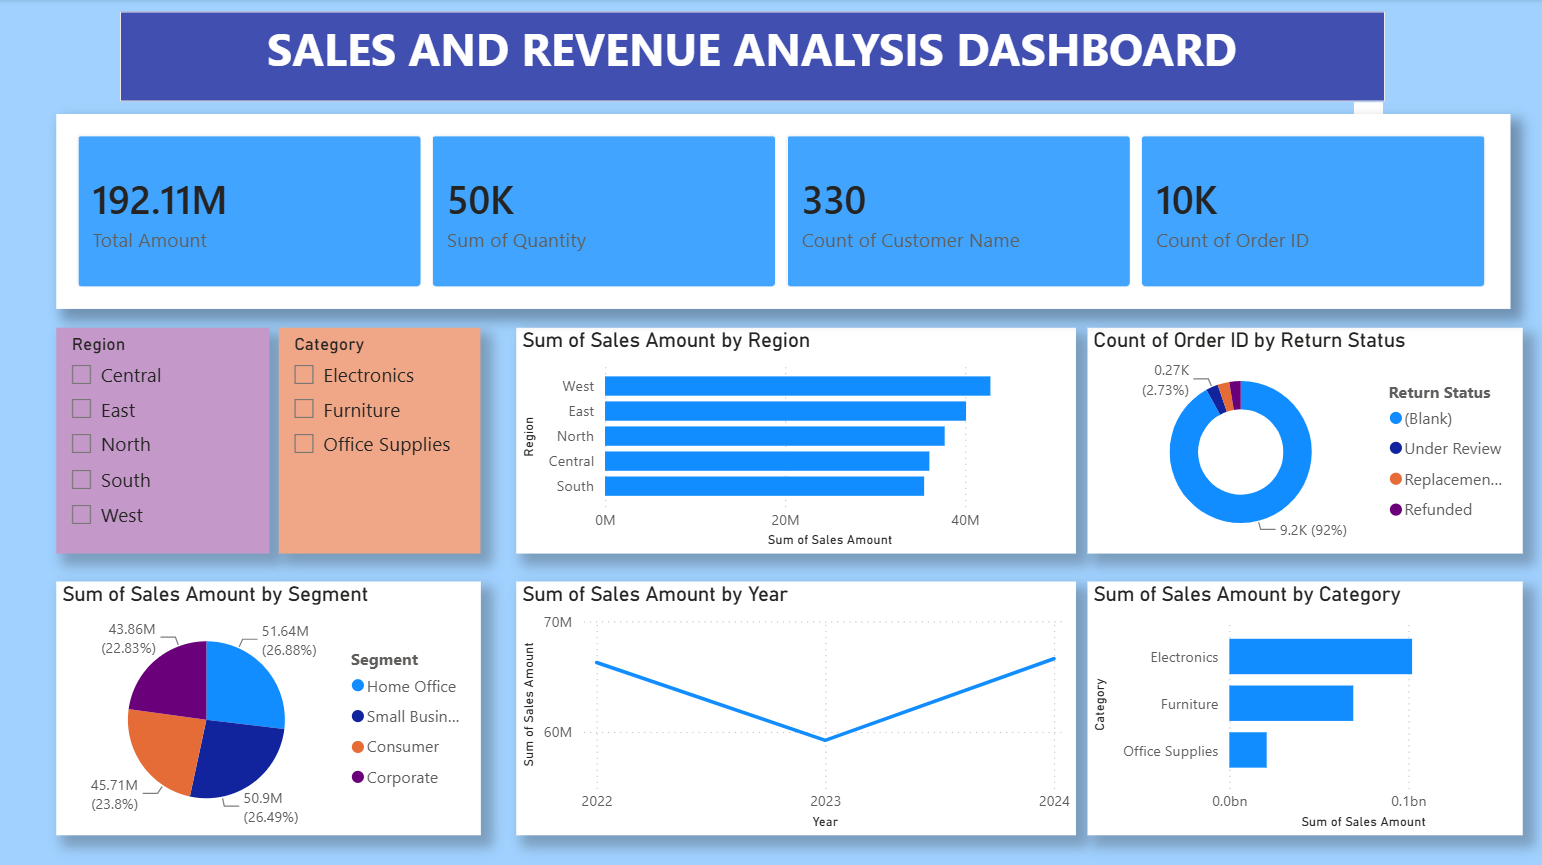

The page's visual inventory and layout, read from the dashboard file:
{"tool":"powerbi","page":{"name":"Page 1","canvas":[1280,720],"ordinal":0},"visuals":[{"type":"lineChart","fields":{"Category":["Orders.Order Date.Variation.Date Hierarchy.Year","Orders.Order Date.Variation.Date Hierarchy.Quarter","Orders.Order Date.Variation.Date Hierarchy.Month","Orders.Order Date.Variation.Date Hierarchy.Day"],"Y":["Sum(Orders.Sales Amount)"]},"box":[427.9,482.6,464,210.5],"z":0},{"type":"clusteredBarChart","fields":{"Category":["Products.Category"],"Y":["Sum(Orders.Sales Amount)"]},"box":[901.2,482.6,360.5,210.5],"z":1000},{"type":"clusteredBarChart","fields":{"Category":["Orders.Region"],"Y":["Sum(Orders.Sales Amount)"]},"box":[427.9,272.1,464,187.2],"z":2000},{"type":"pieChart","fields":{"Category":["Orders.Segment"],"Y":["Sum(Orders.Sales Amount)"]},"box":[46.5,482.6,352.3,210.5],"z":3000},{"type":"donutChart","fields":{"Category":["Returns.Return Status"],"Y":["CountNonNull(Orders.Order ID)"]},"box":[901.2,272.1,360.5,187.2],"z":4000},{"type":"textbox","box":[100,10.5,1047.7,74.4],"z":5000},{"type":"cardVisual","fields":{"Data":["Sum(Orders.Sales Amount)","Sum(Orders.Quantity)","Count(Orders.Customer Name)","Count(Orders.Order ID)"]},"box":[46.5,95.3,1205.8,161.6],"z":6000},{"type":"slicer","fields":{"Values":["Orders.Region"]},"box":[46.5,272.1,176.7,187.2],"z":7000},{"type":"slicer","fields":{"Values":["Products.Category"]},"box":[231.4,272.1,167.4,187.2],"z":8000}]}

Visuals, with their boxes in screenshot pixels (x1, y1, x2, y2), scaled from the page's 1280x720 canvas onto the 1542x865 screenshot:
lineChart - Orders.Order Date.Variation.Date Hierarchy.Year x Orders.Order Date.Variation.Date Hierarchy.Quarter: left=515, top=580, right=1074, bottom=833
clusteredBarChart - Products.Category x Sum(Orders.Sales Amount): left=1086, top=580, right=1520, bottom=833
clusteredBarChart - Orders.Region x Sum(Orders.Sales Amount): left=515, top=327, right=1074, bottom=552
pieChart - Orders.Segment x Sum(Orders.Sales Amount): left=56, top=580, right=480, bottom=833
donutChart - Returns.Return Status x CountNonNull(Orders.Order ID): left=1086, top=327, right=1520, bottom=552
textbox: left=120, top=13, right=1383, bottom=102
cardVisual - Sum(Orders.Sales Amount) x Sum(Orders.Quantity): left=56, top=114, right=1509, bottom=309
slicer - Orders.Region: left=56, top=327, right=269, bottom=552
slicer - Products.Category: left=279, top=327, right=480, bottom=552
